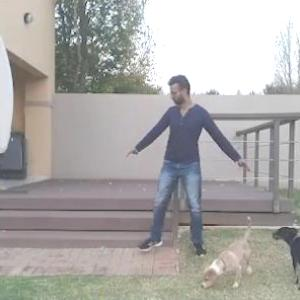land: (124, 72, 248, 252)
